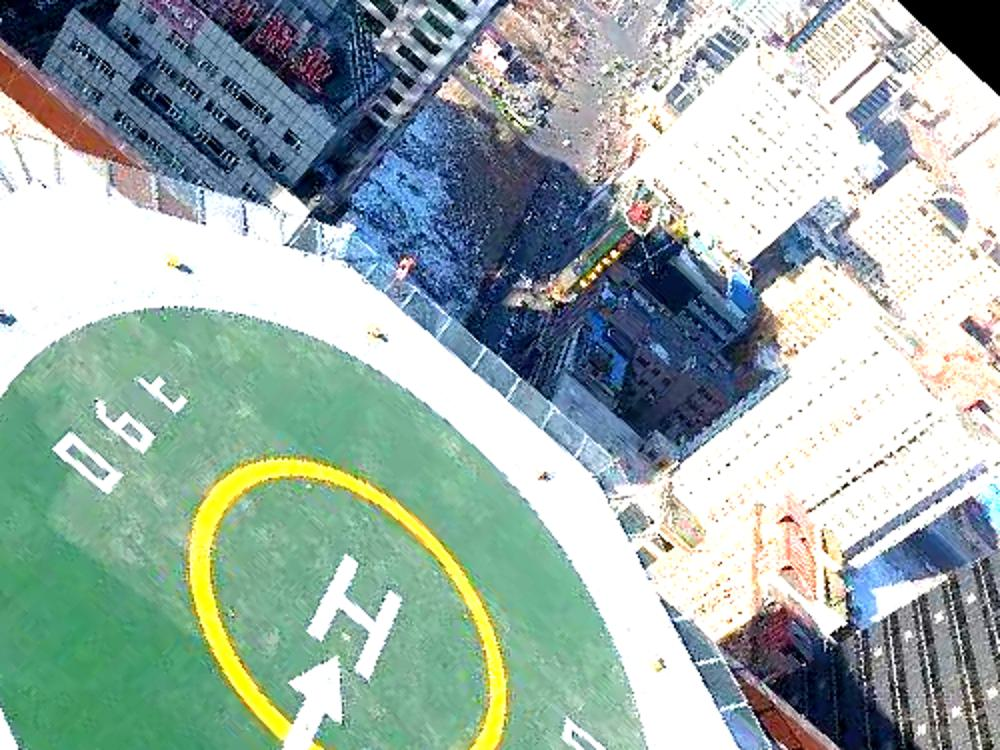Apron: (198, 481, 485, 735)
